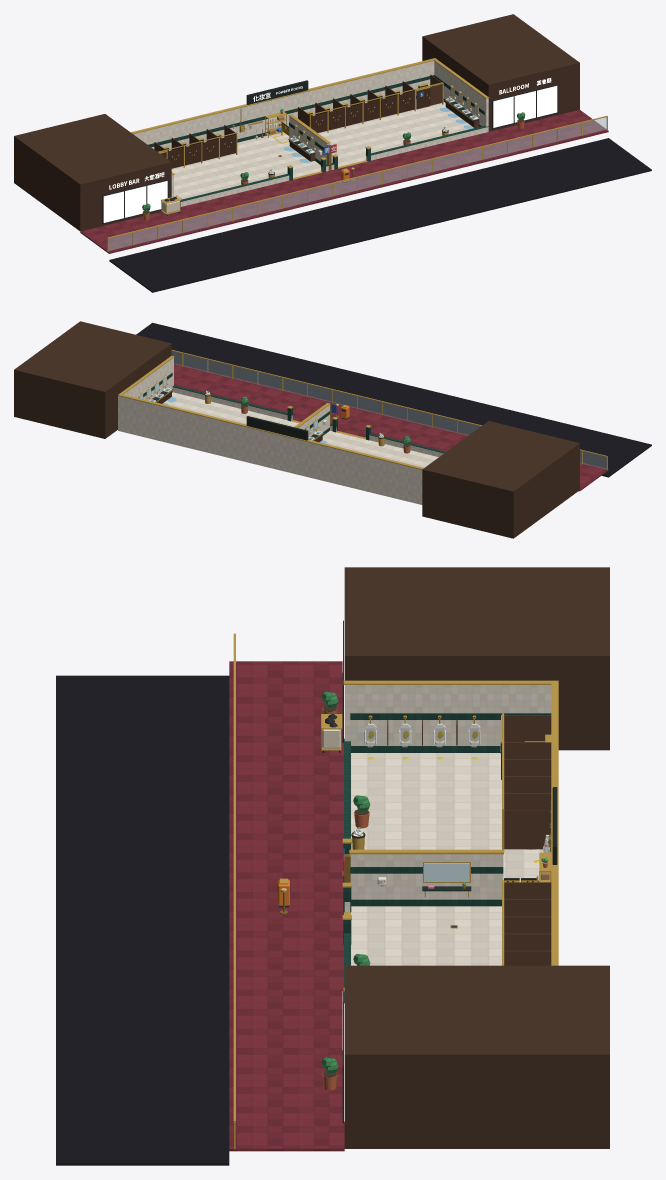
The model's file is level_hotel.glb.
3 renders of one model, top to bottom at view 1: azimuth 30°, elevation 25°; view 2: azimuth 150°, elevation 25°; view 3: azimuth 270°, elevation 25°, orthographic. The views are drawn at different scales.
Parts seen in each view (by area): view 1: street, neighbours, walls, floor, stall_partitions, decor, signage, bank_dressing; view 2: neighbours, street, walls, floor, signage, decor; view 3: street, neighbours, floor, walls, stall_partitions, decor.
Boxes of the visible parts, box(x1,y1,x2,y2) form: street: box(80, 109, 651, 292); neighbours: box(14, 14, 579, 231); walls: box(131, 58, 489, 206); floor: box(171, 99, 473, 199); stall_partitions: box(154, 74, 443, 167); decor: box(142, 112, 525, 220); signage: box(246, 80, 336, 170); bank_dressing: box(288, 96, 479, 161); neighbours: box(14, 321, 579, 538); street: box(136, 322, 651, 491); walls: box(118, 355, 445, 503); floor: box(118, 392, 438, 504); signage: box(246, 402, 336, 440); decor: box(204, 393, 410, 453); street: box(56, 633, 344, 1165); neighbours: box(342, 567, 609, 1148); floor: box(351, 753, 543, 965); walls: box(342, 680, 558, 1003); stall_partitions: box(501, 713, 551, 965); decor: box(277, 691, 551, 1090).
Bounding box in the file's own units: 40.06 × 4.25 × 19.2.
63 materials, 4 textured.
